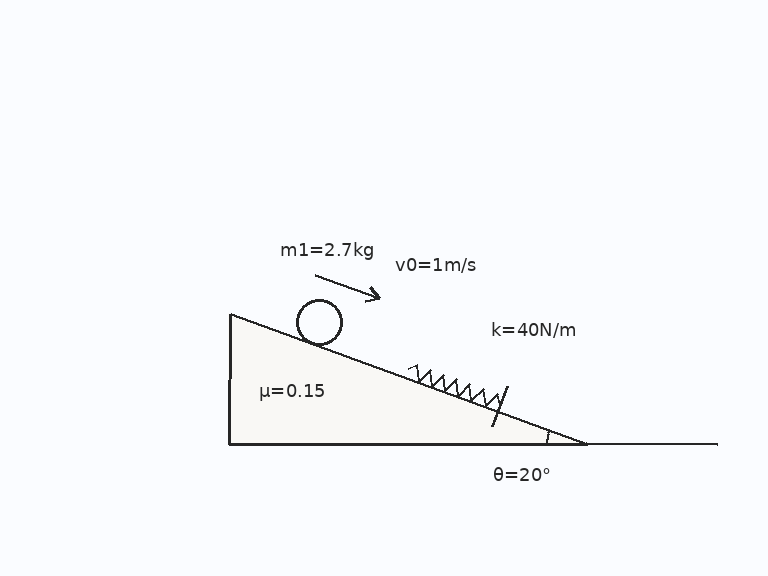ball: (294, 297, 344, 347)
ramp: (227, 312, 589, 446)
spring: (405, 363, 503, 407)
